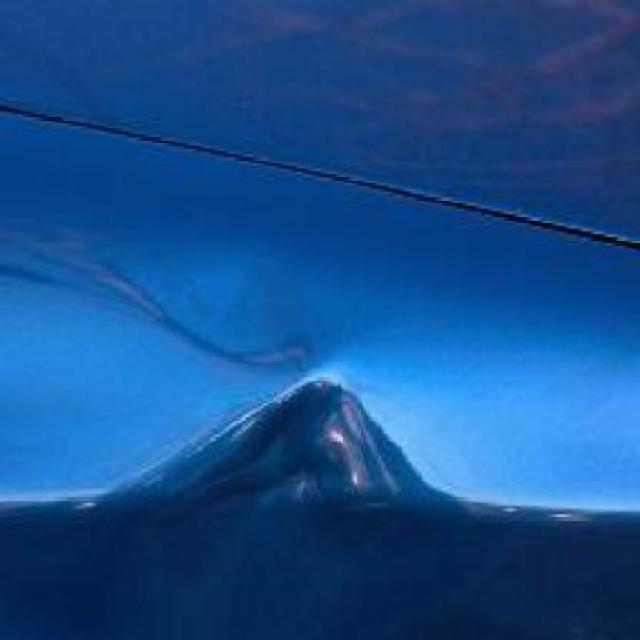dent-or-scratch: (117, 346, 426, 528)
